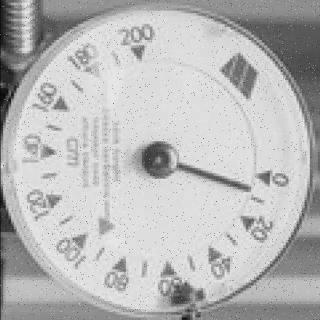gauge: (1, 2, 320, 320), (109, 29, 155, 75), (138, 140, 180, 181), (242, 164, 284, 200), (242, 183, 254, 197)
